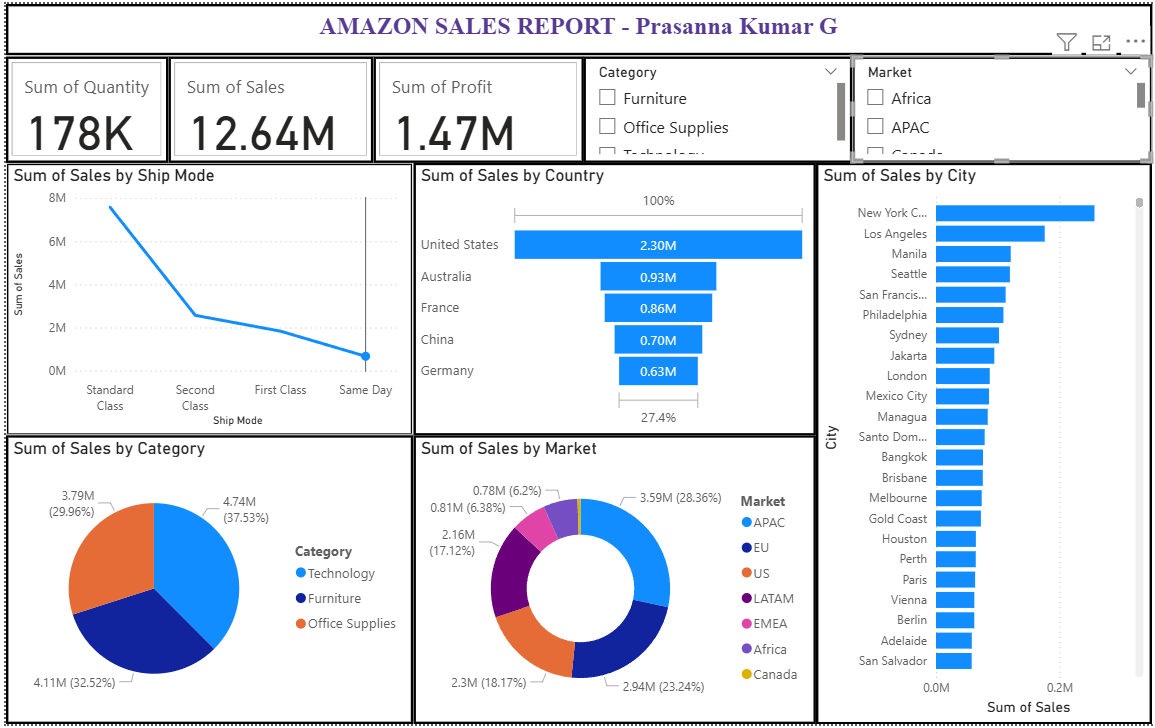

This screenshot's page, from the dashboard's own definition file:
{"tool":"powerbi","page":{"name":"Page 1","canvas":[1280,720],"ordinal":0},"visuals":[{"type":"pieChart","fields":{"Category":["Orders.Category"],"Y":["Sum(Orders.Sales)"]},"box":[0,431.2,407.5,288.8],"z":0},{"type":"donutChart","fields":{"Category":["Orders.Market"],"Y":["Sum(Orders.Sales)"]},"box":[407.5,431.2,402.5,288.8],"z":1000},{"type":"lineChart","fields":{"Category":["Orders.Ship Mode"],"Y":["Sum(Orders.Sales)"]},"box":[0,158.8,407.5,272.5],"z":2000},{"type":"funnel","fields":{"Category":["Orders.Country"],"Y":["Sum(Orders.Sales)"]},"box":[407.5,158.8,402.5,272.5],"z":3000},{"type":"clusteredBarChart","fields":{"Category":["Orders.City"],"Y":["Sum(Orders.Sales)"]},"box":[810,158.8,336.2,561.2],"z":4000},{"type":"textbox","box":[0,0,1146.2,51.2],"z":5000},{"type":"cardVisual","fields":{"Data":["Sum(Orders.Quantity)"]},"box":[0,52.5,162.5,106.2],"z":6000},{"type":"slicer","fields":{"Values":["Orders.Category"]},"box":[577.5,52.5,268.8,106.2],"z":7000},{"type":"cardVisual","fields":{"Data":["Sum(Orders.Sales)"]},"box":[162.5,52.5,205,106.2],"z":8000},{"type":"cardVisual","fields":{"Data":["Sum(Orders.Profit)"]},"box":[367.5,52.5,210,106.2],"z":9000},{"type":"slicer","fields":{"Values":["Orders.Market"]},"box":[846.2,52.5,300,106.2],"z":10000}]}

Visuals, with their boxes on the page's 1280x720 design canvas (x1, y1, x2, y2). These are canvas units, not pixel positions in the 1155x728 screenshot, which may show the page scaled, cropped or inside an application window:
pieChart - Orders.Category x Sum(Orders.Sales): Rect(0, 431, 408, 720)
donutChart - Orders.Market x Sum(Orders.Sales): Rect(408, 431, 810, 720)
lineChart - Orders.Ship Mode x Sum(Orders.Sales): Rect(0, 159, 408, 431)
funnel - Orders.Country x Sum(Orders.Sales): Rect(408, 159, 810, 431)
clusteredBarChart - Orders.City x Sum(Orders.Sales): Rect(810, 159, 1146, 720)
textbox: Rect(0, 0, 1146, 51)
cardVisual - Sum(Orders.Quantity): Rect(0, 52, 162, 159)
slicer - Orders.Category: Rect(578, 52, 846, 159)
cardVisual - Sum(Orders.Sales): Rect(162, 52, 368, 159)
cardVisual - Sum(Orders.Profit): Rect(368, 52, 578, 159)
slicer - Orders.Market: Rect(846, 52, 1146, 159)
